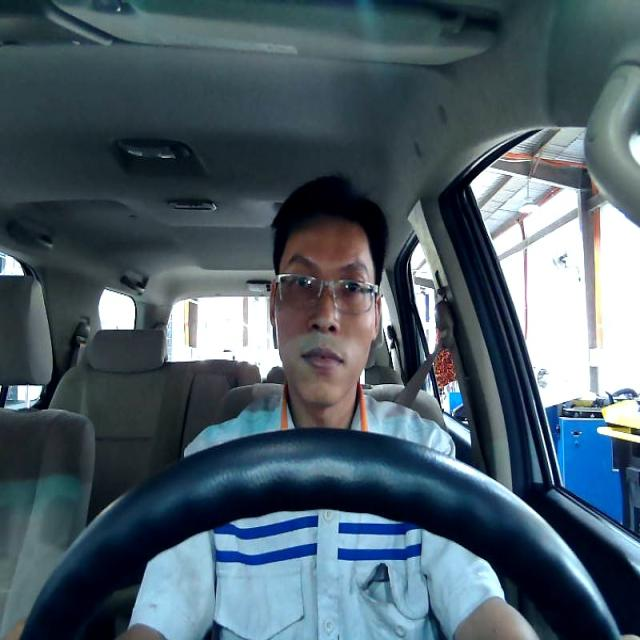focused: (267, 214, 380, 406)
